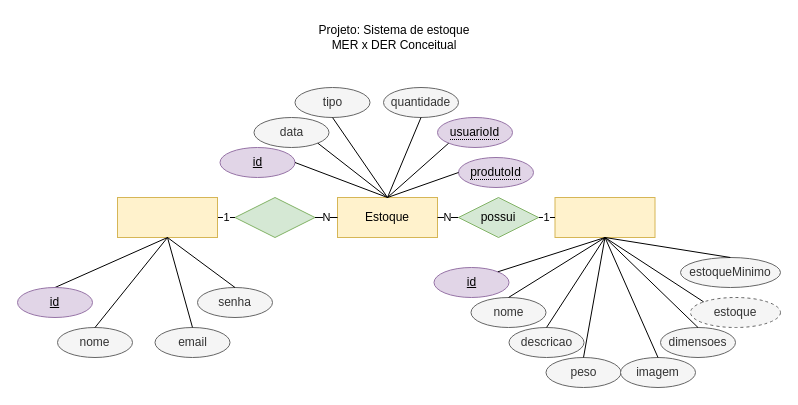
The diagram is 798 pixels wide and 405 high, and some of its shapes have lost their labels. Here are the shapes that lost their labels. From the top down, the centre of each, then its label:
(x=167, y=217): Usuario
(x=274, y=217): movimenta
(x=604, y=217): Produto
